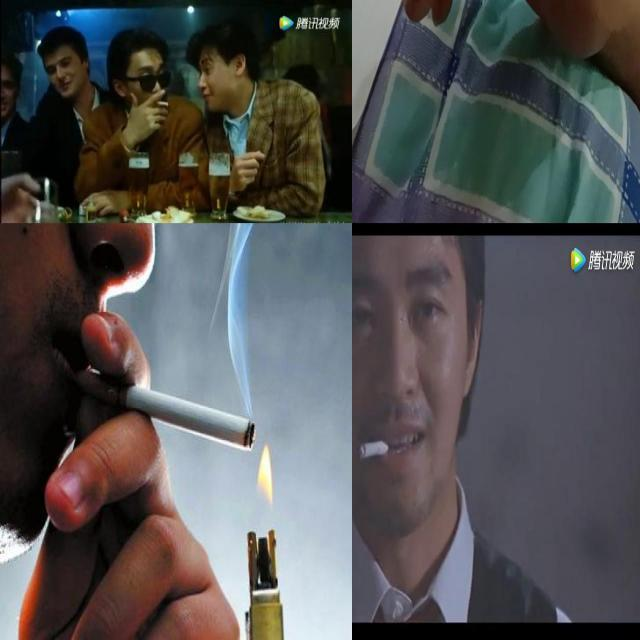smoke: (76, 368, 256, 451), (358, 441, 392, 461), (156, 100, 170, 108)
